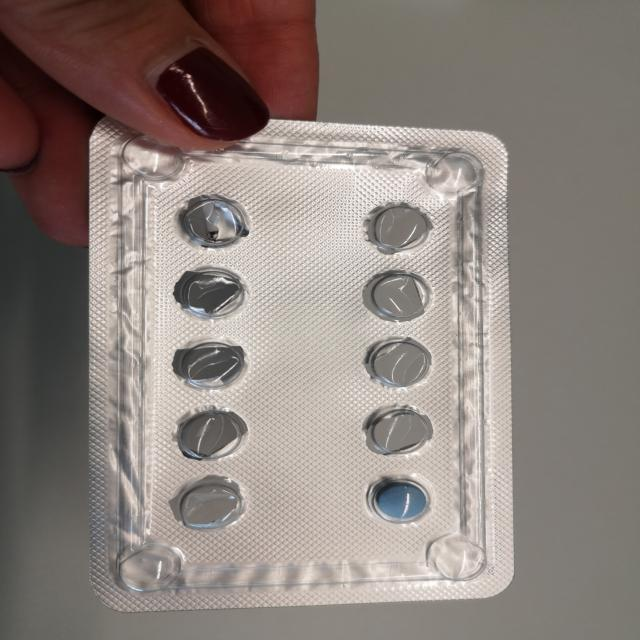Empty: (170, 402, 251, 464), (172, 192, 254, 250), (356, 404, 437, 462), (166, 336, 250, 391), (169, 264, 248, 320), (359, 198, 437, 254), (358, 336, 437, 390), (172, 478, 244, 534), (358, 272, 438, 322)
Pill: (362, 474, 434, 526)
